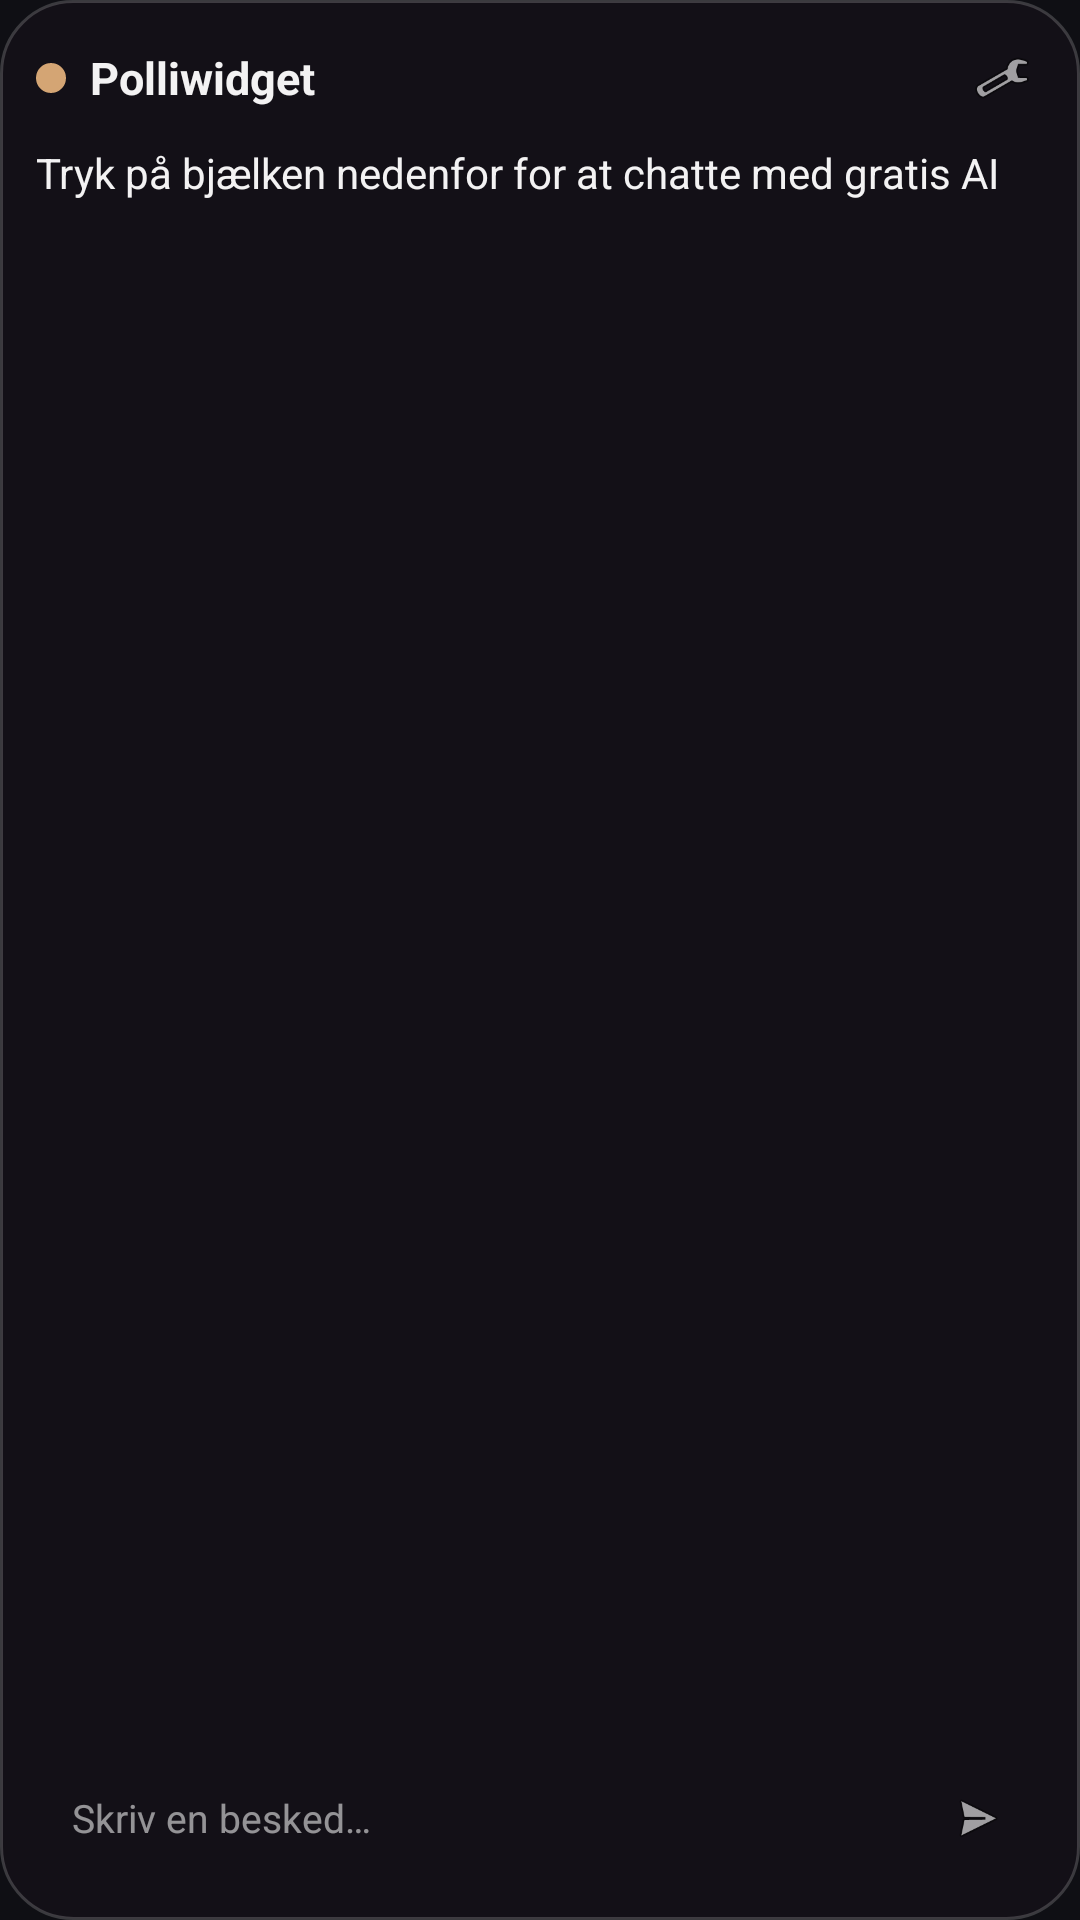

Where to tap for icons on this 1080 x 1920 app screen, as point (x, y):
Indstillinger: point (1002, 78)
Send: point (978, 1818)
